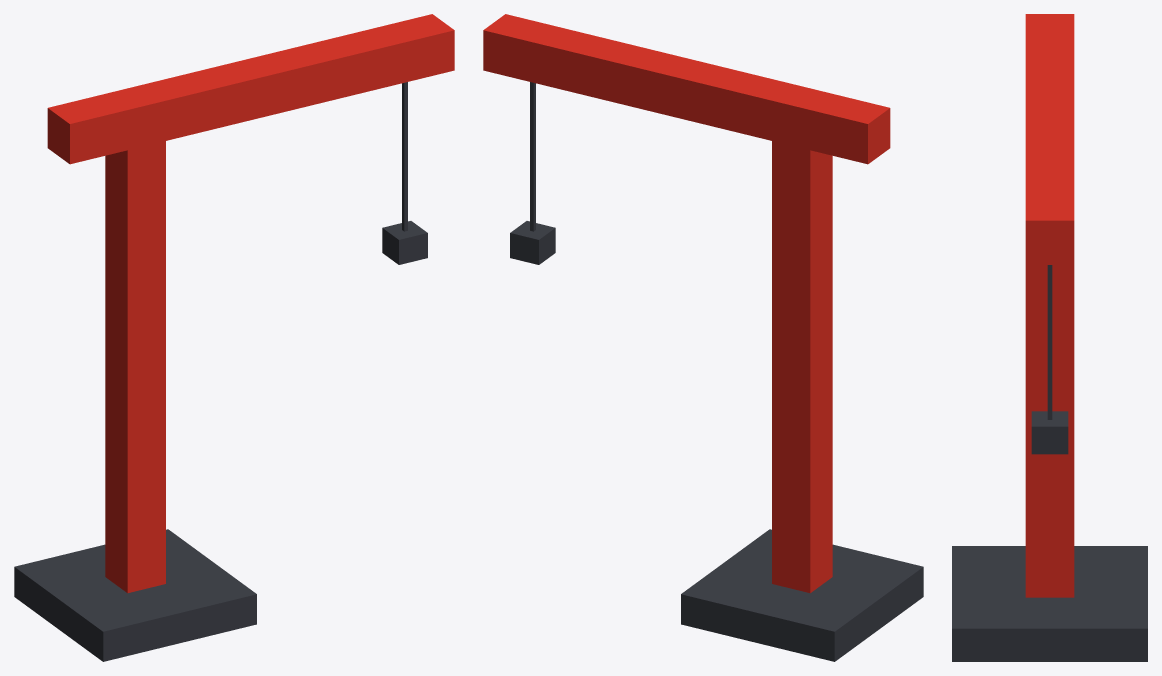
File: harbor_crane.glb
The picture shows the model from 3 angles, left to right: view 1: azimuth 30°, elevation 25°; view 2: azimuth 150°, elevation 25°; view 3: azimuth 270°, elevation 25°; orthographic projection. The views are drawn at different scales.
Visible parts, largest first — view 1: harbor_crane; view 2: harbor_crane; view 3: harbor_crane.
Part boxes in pixels (x1=…): harbor_crane: x1=14, y1=14, x2=454, y2=661; harbor_crane: x1=483, y1=14, x2=923, y2=661; harbor_crane: x1=952, y1=14, x2=1147, y2=661.
Size of the model in its own units: 4 by 5.1 by 1.6.
